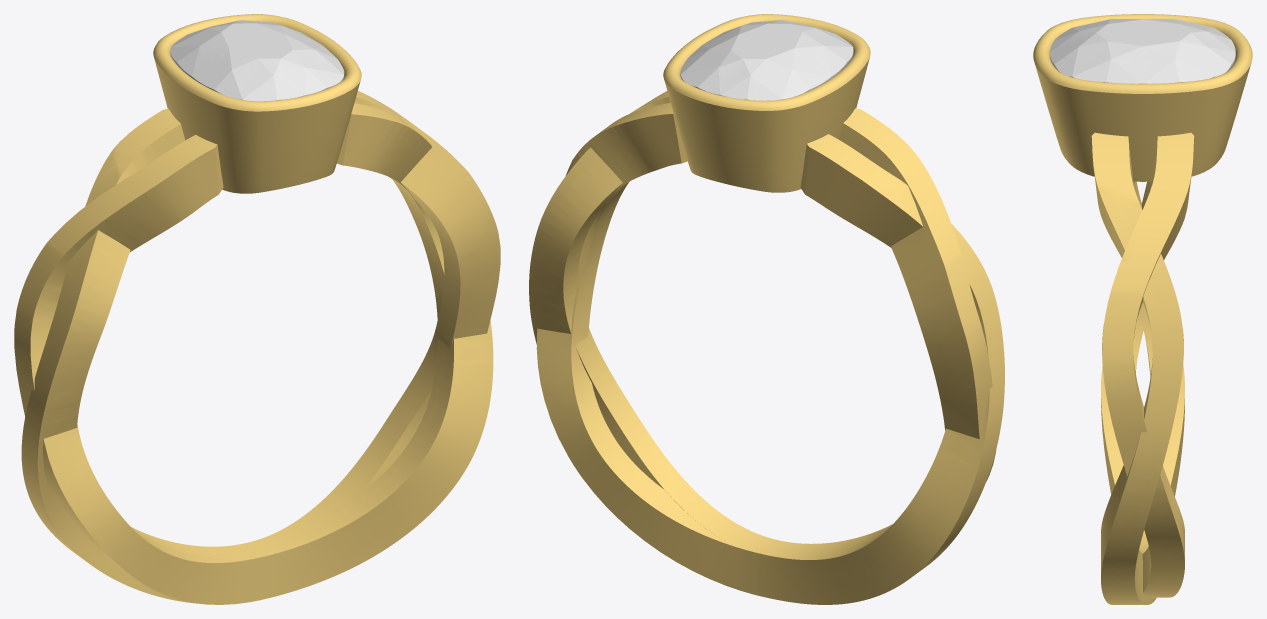
File: diamond-cushion-yellowgold-bezelset-twist-nosidestones.glb
The picture shows the model from 3 angles, left to right: view 1: azimuth 30°, elevation 25°; view 2: azimuth 150°, elevation 25°; view 3: azimuth 270°, elevation 25°; orthographic projection.
Parts seen in each view (by area): view 1: metal.002, stone; view 2: metal.002, stone; view 3: metal.002, stone.
Part boxes in pixels (left/top/right/bottom): metal.002: left=14, top=14, right=500, bottom=604; stone: left=170, top=20, right=344, bottom=101; metal.002: left=529, top=14, right=1004, bottom=604; stone: left=680, top=20, right=853, bottom=100; metal.002: left=1033, top=14, right=1252, bottom=604; stone: left=1050, top=19, right=1235, bottom=83.
Size of the model in its own units: 19.97 by 23.14 by 8.45.
